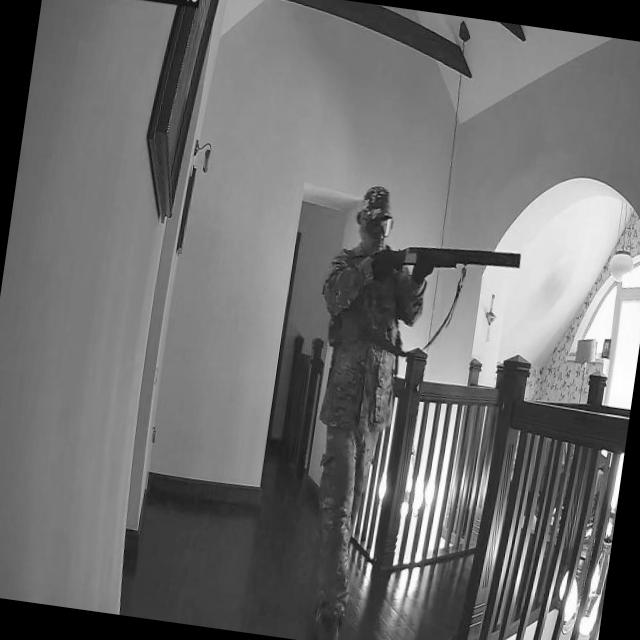gun: (377, 233, 522, 279)
person with a gun: (274, 175, 531, 640)
